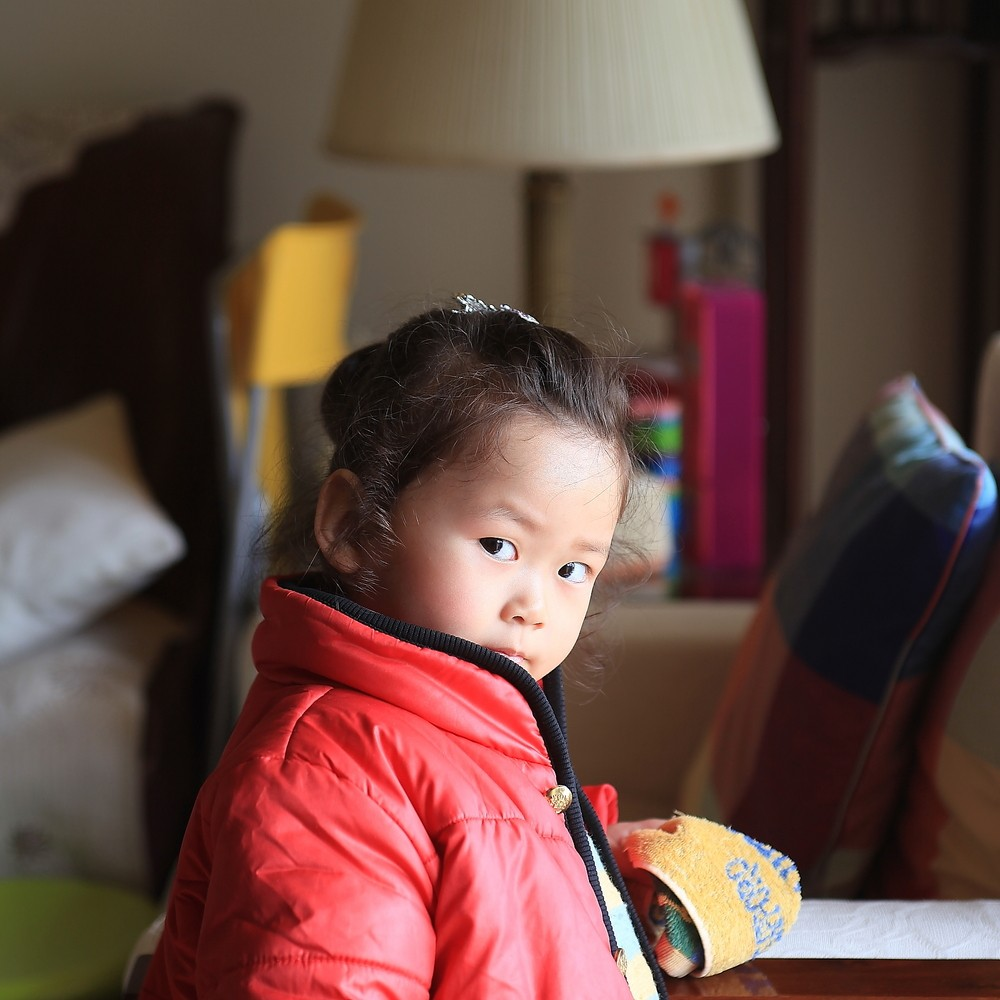face: (393, 411, 618, 687)
